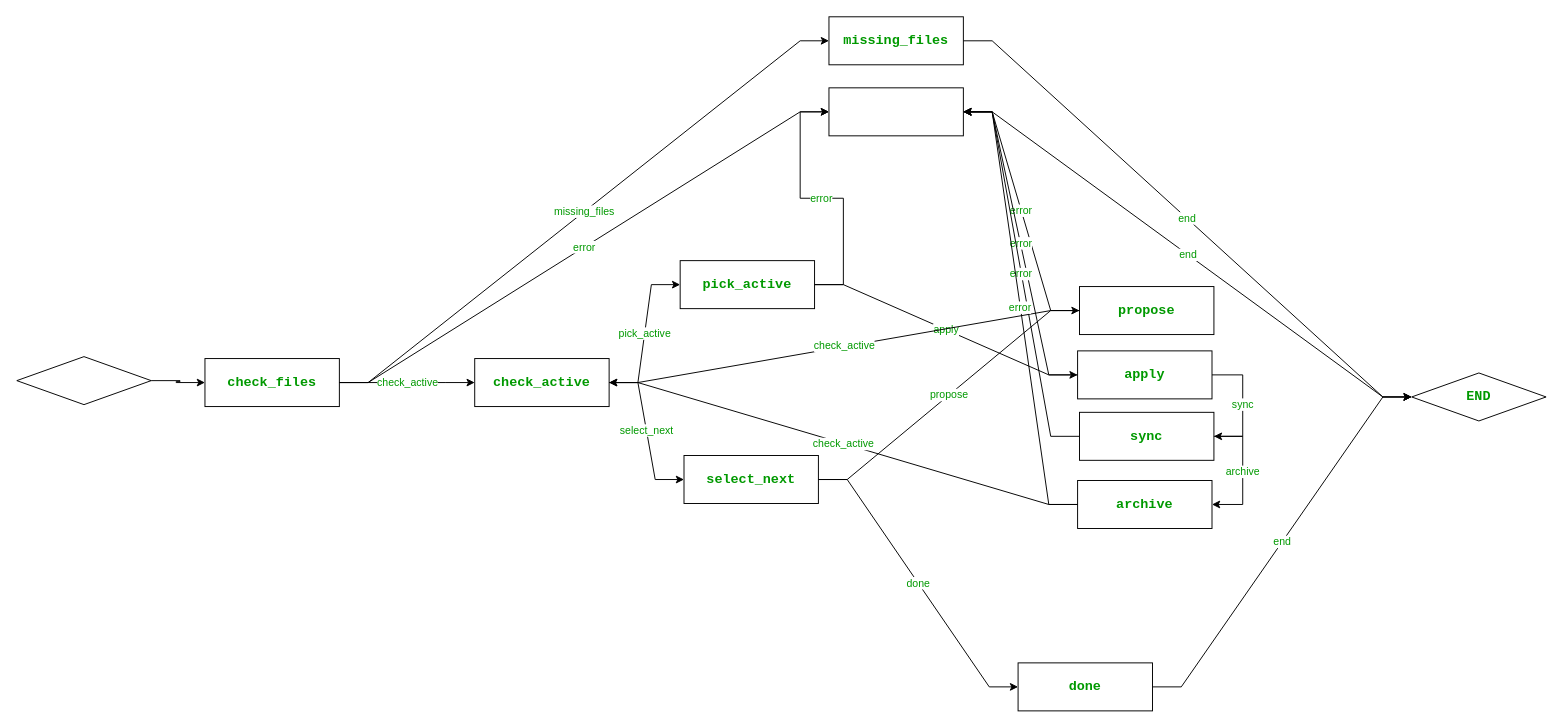
This 1563x728 diagram has some shape labels left out. The centre of each missing label's shape, as x and y in pixels:
"report_error" goes at point (895, 111).
"START" goes at point (83, 380).
